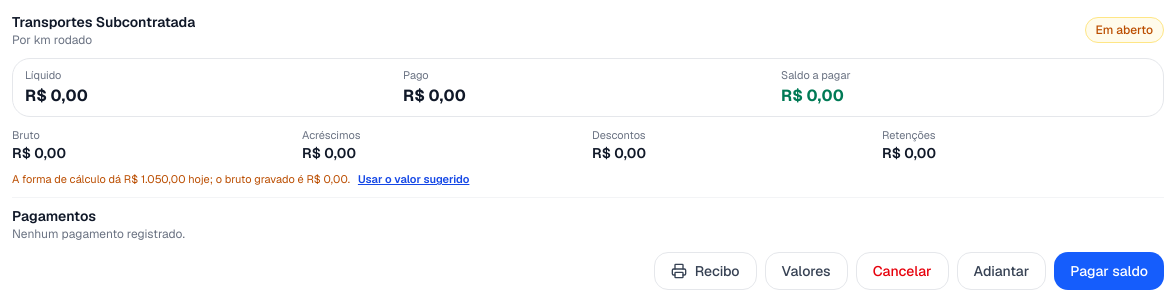
Test: aba Frete: valor sugerido, documentos da subcontratada e aviso ao quitar › contrato por km com a viagem já com km: mostra o sugerido ao lado do gravado e só muda com o botão
The width and height of the screenshot is (1176, 307).
Expected: the element that starts with "A forma de cálculo dá" is shown, [12,172,469,187]
Click the button "Usar o valor sugerido". click: click(414, 180)
box: [358,173,469,187]
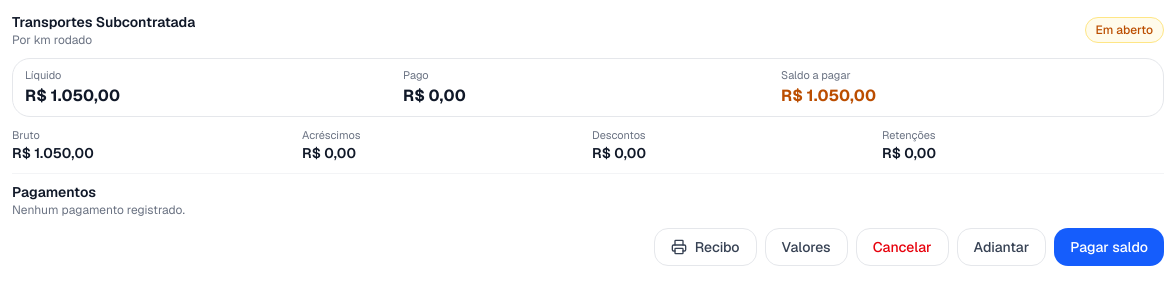
Expected: the text "R$ 1.050,00" below "Líquido" is shown, [25,84,120,106]
